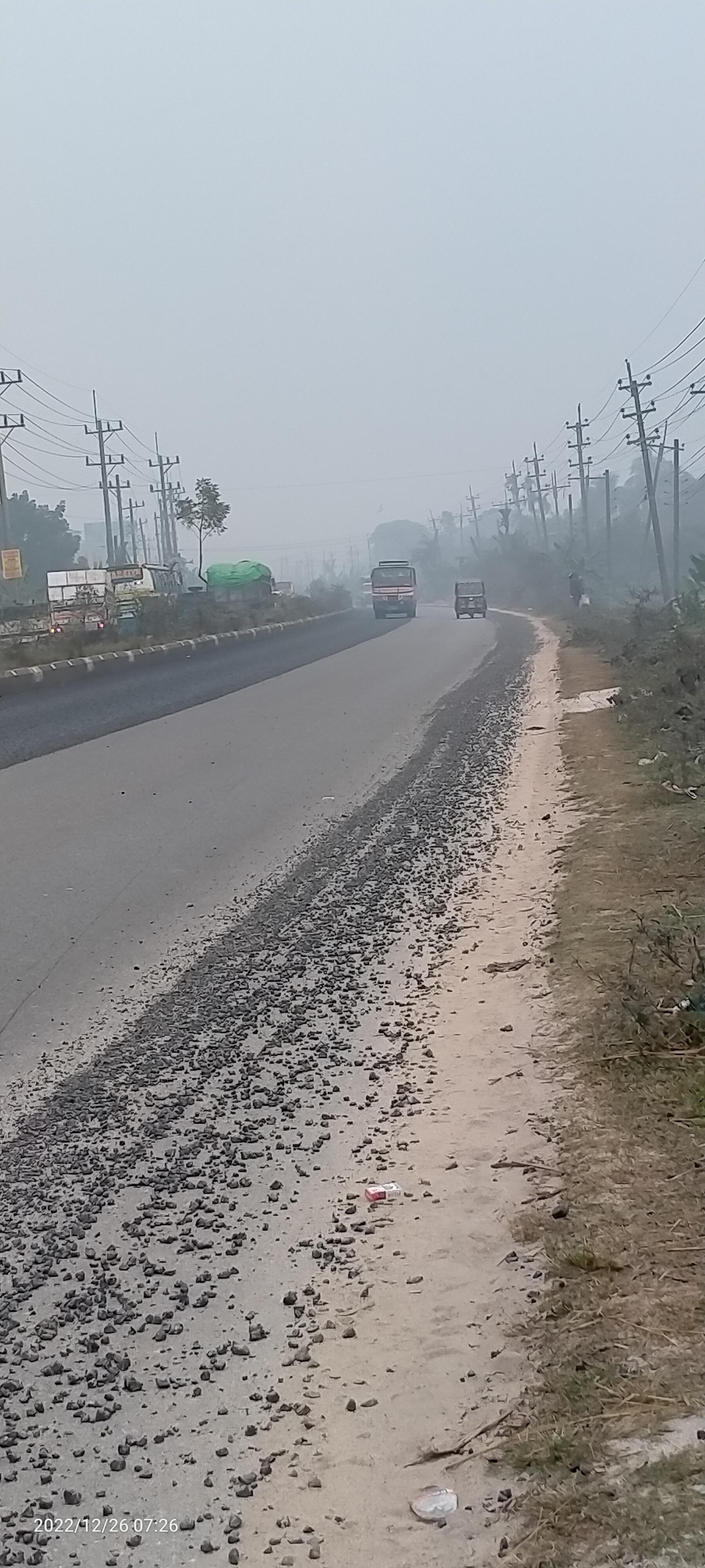Bus: (107, 555, 192, 631)
Truck: (196, 550, 284, 630), (359, 547, 429, 621)
